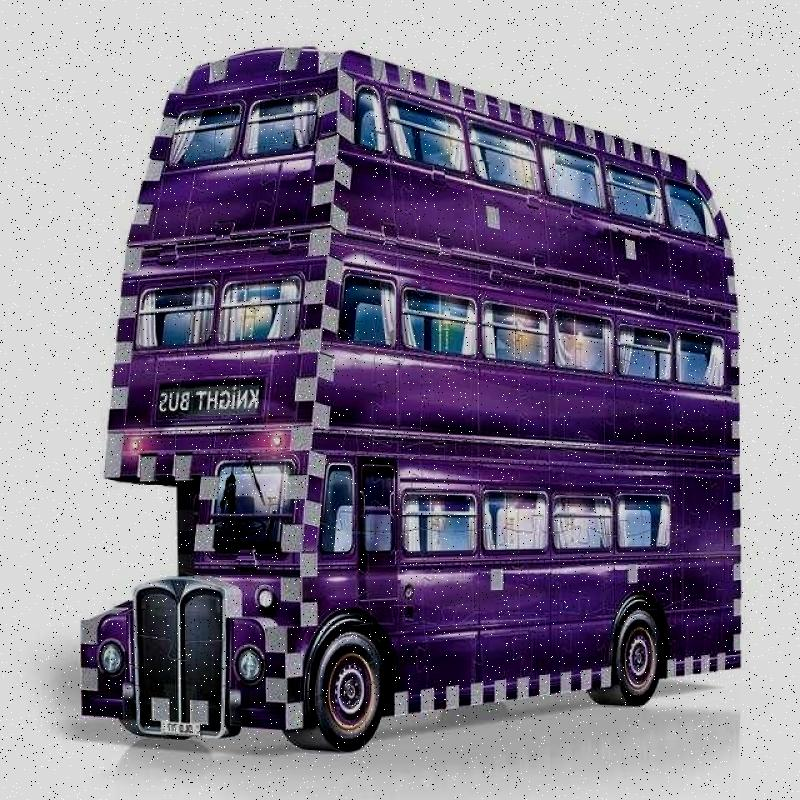bus: (48, 95, 726, 760)
